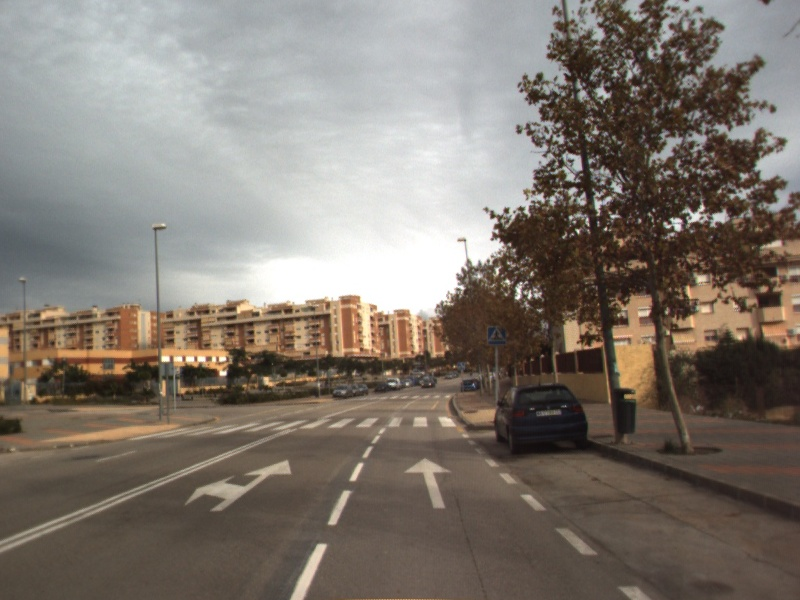STRAIGHT: (402, 455, 454, 511)
STRAIGHT_LEFT: (182, 458, 293, 514)
